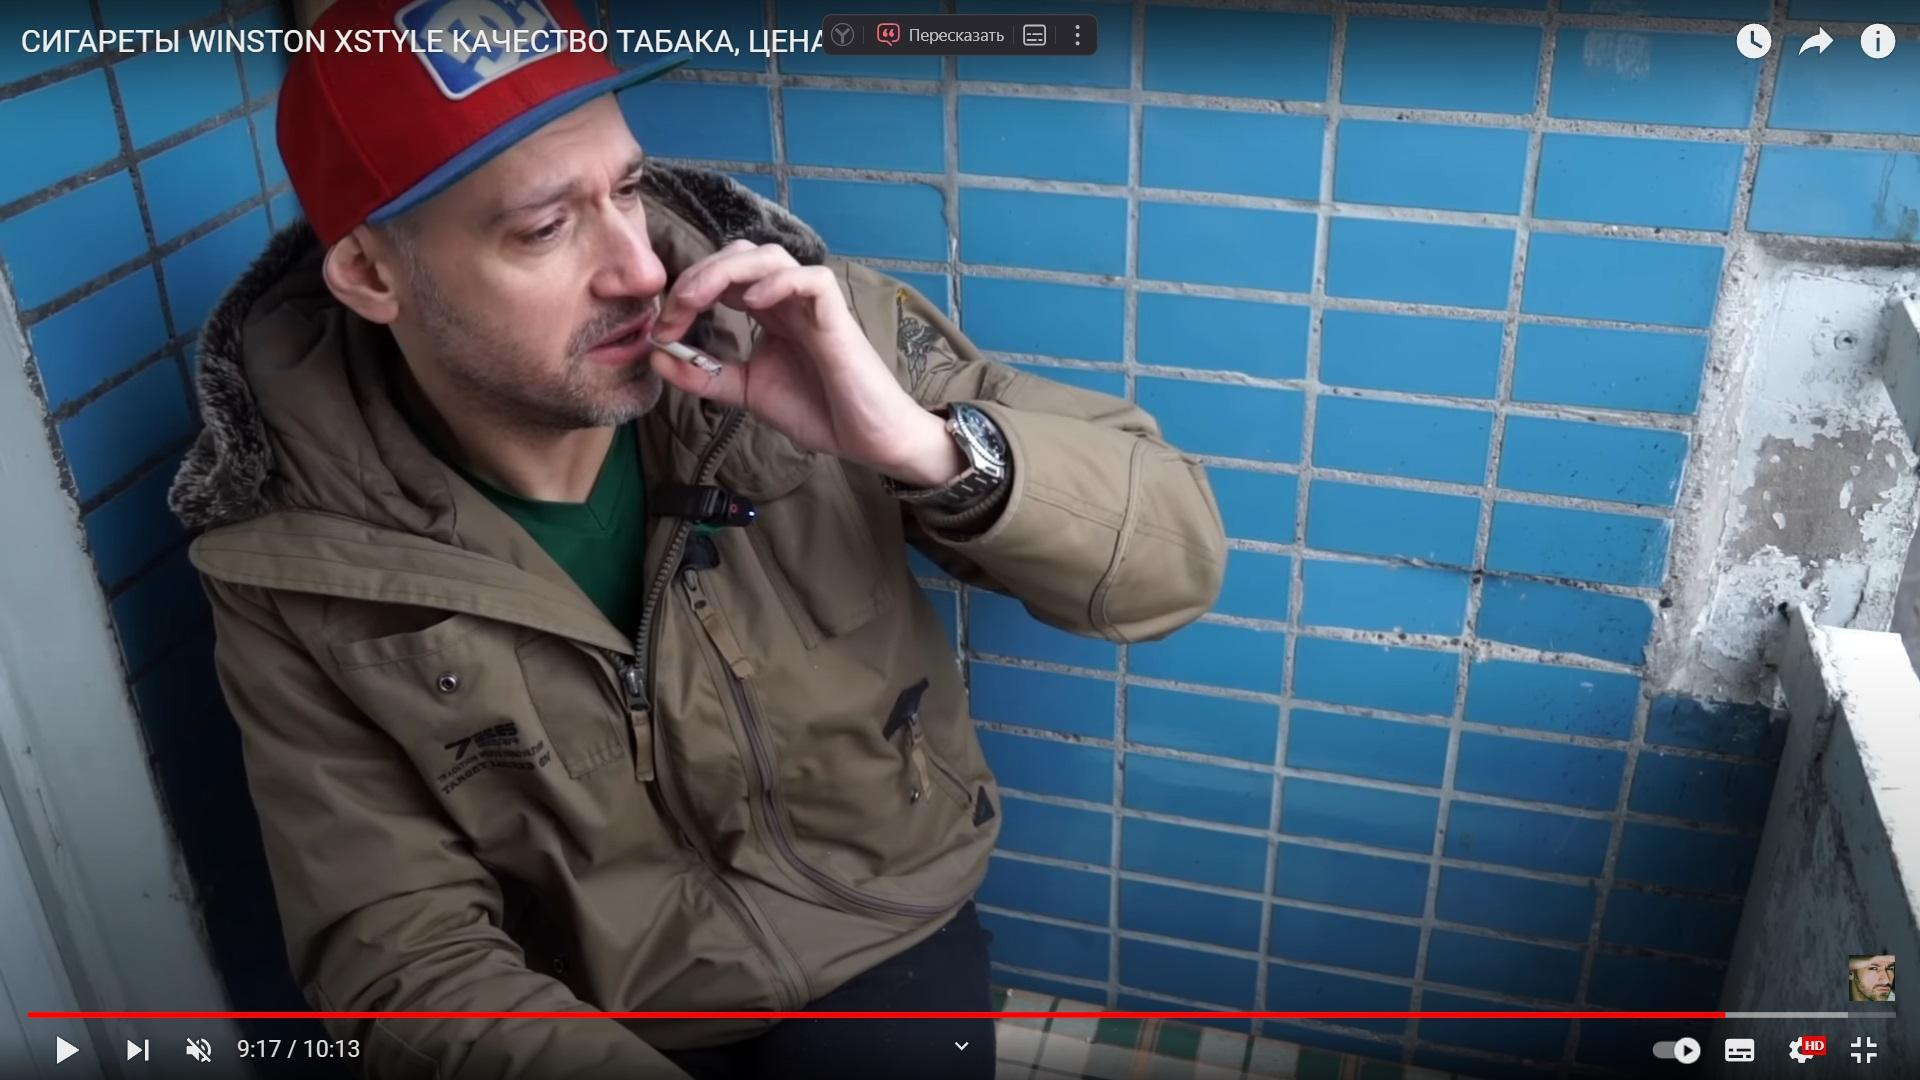cigarette: (645, 331, 723, 377)
